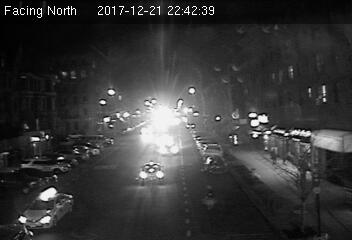car: (17, 185, 75, 230), (138, 161, 167, 184), (204, 156, 227, 175)
